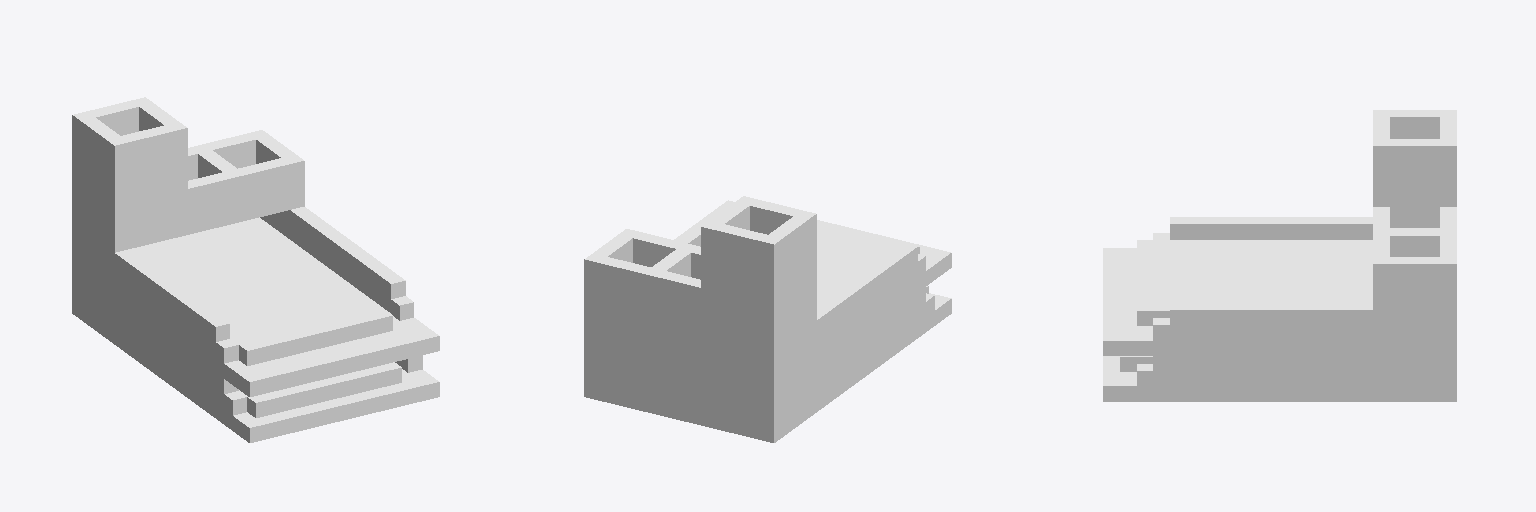
File: nankairemono.obj
3 views of the same model, side by side, from view 1: azimuth 30°, elevation 25°; view 2: azimuth 150°, elevation 25°; view 3: azimuth 270°, elevation 25° (orthographic).
Visible parts, largest first — view 1: object 1; view 2: object 1; view 3: object 1.
Part boxes in pixels (x1,y1,x2,y2): object 1: (72,97,439,442); object 1: (584,196,951,442); object 1: (1103,110,1456,401).
Size of the model in its own units: 1.3 by 1.3 by 2.1.